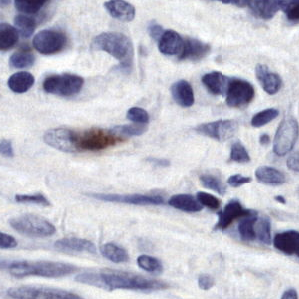Lymphocyte: (76, 129, 123, 150)
